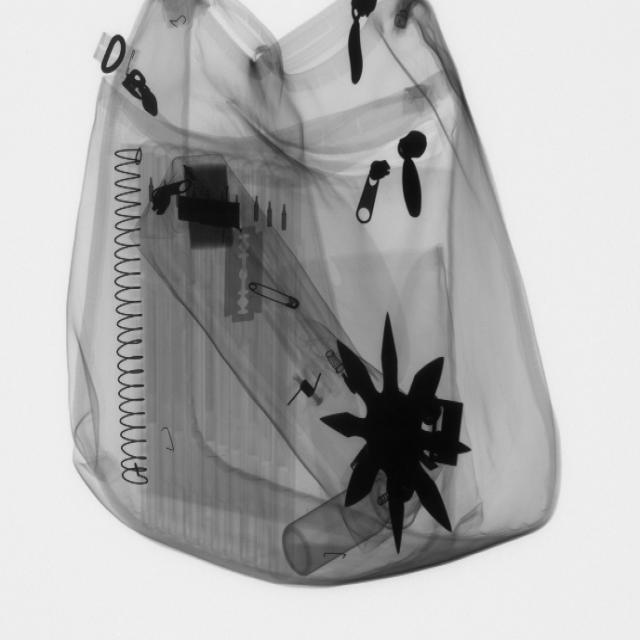BLADE: (215, 214, 271, 332)
SHURIKEN: (323, 313, 467, 550)
